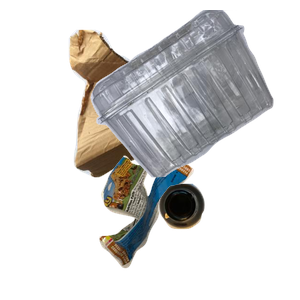cardboard: (66, 27, 242, 197)
glass: (156, 181, 300, 300)
plastic: (88, 10, 300, 180)
trash: (97, 151, 283, 300)
